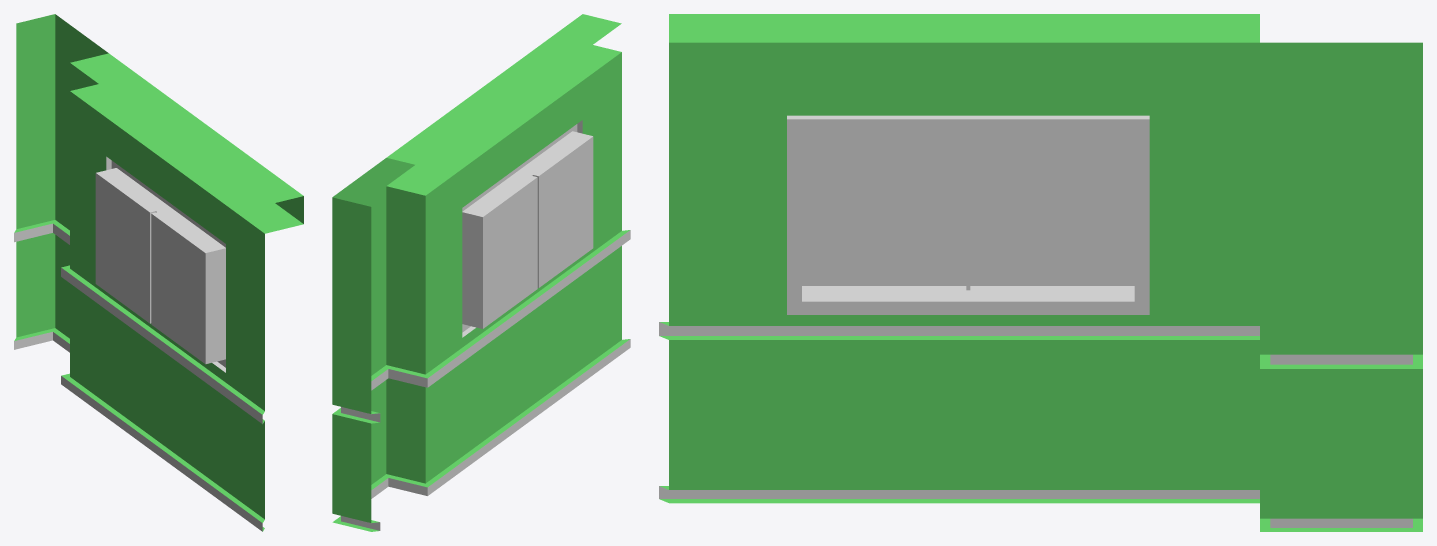
The model's file is brutalismnewroom.fbx.
3 views of the same model, side by side, from view 1: azimuth 30°, elevation 25°; view 2: azimuth 150°, elevation 25°; view 3: azimuth 270°, elevation 25° (orthographic). The views are drawn at different scales.
Parts seen in each view (by area): view 1: room novo; view 2: room novo; view 3: room novo.
Part boxes in pixels (x1,y1,x2,y2): room novo: [14, 14, 303, 531]; room novo: [332, 14, 630, 531]; room novo: [659, 14, 1422, 531].
Size of the model in its own units: 4.78 by 27.04 by 38.26.
